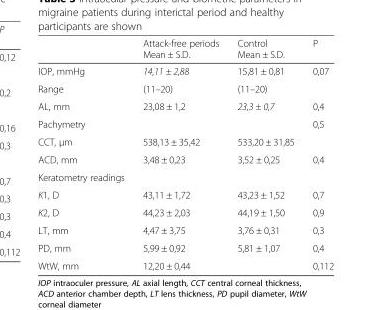table: (37, 36, 333, 270)
table column: (37, 36, 132, 270), (132, 36, 227, 270), (227, 36, 302, 270), (302, 36, 333, 270)
table column header: (37, 36, 333, 62)
table projected row header: (37, 167, 333, 185)
table row: (37, 36, 333, 62), (37, 79, 333, 97), (37, 114, 333, 132), (37, 132, 333, 150), (37, 167, 333, 185), (37, 185, 333, 203), (37, 203, 333, 221), (37, 238, 333, 256), (37, 62, 333, 79), (37, 97, 333, 114), (37, 150, 333, 167), (37, 221, 333, 238), (37, 256, 333, 270)
table spanning cell: (37, 114, 302, 132), (302, 114, 333, 150), (302, 62, 333, 97)
